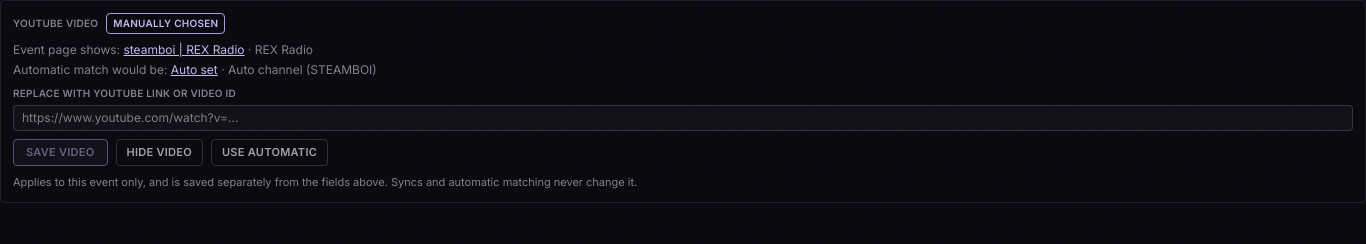
EventYoutubePanel — actions › change: replacing an existing manual video sends the new one
The width and height of the screenshot is (1366, 244).
Type "dQw4w9WgXcQ" into the field labelled "Replace with YouTube link or video id".
click(683, 118); type("dQw4w9WgXcQ")  # box [13, 105, 1353, 131]
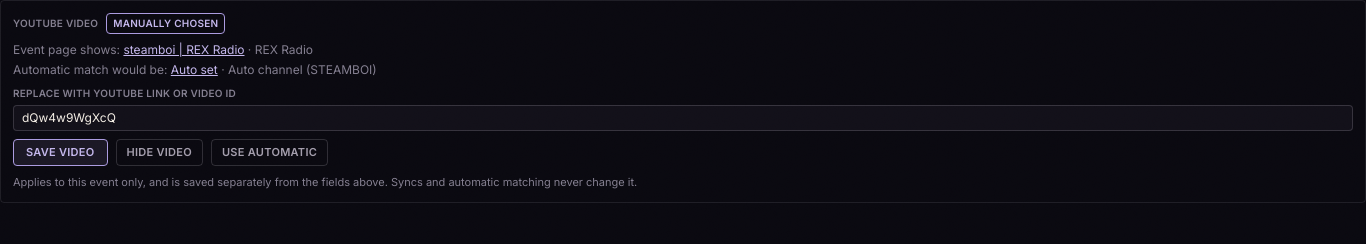
Click the button "Save video".
click(60, 152)  # box [13, 139, 108, 166]
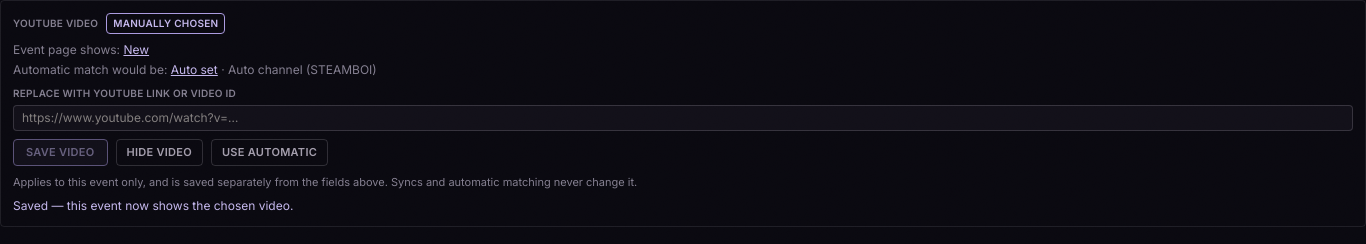
Expected: the link "New" is shown, [123, 42, 149, 57]
